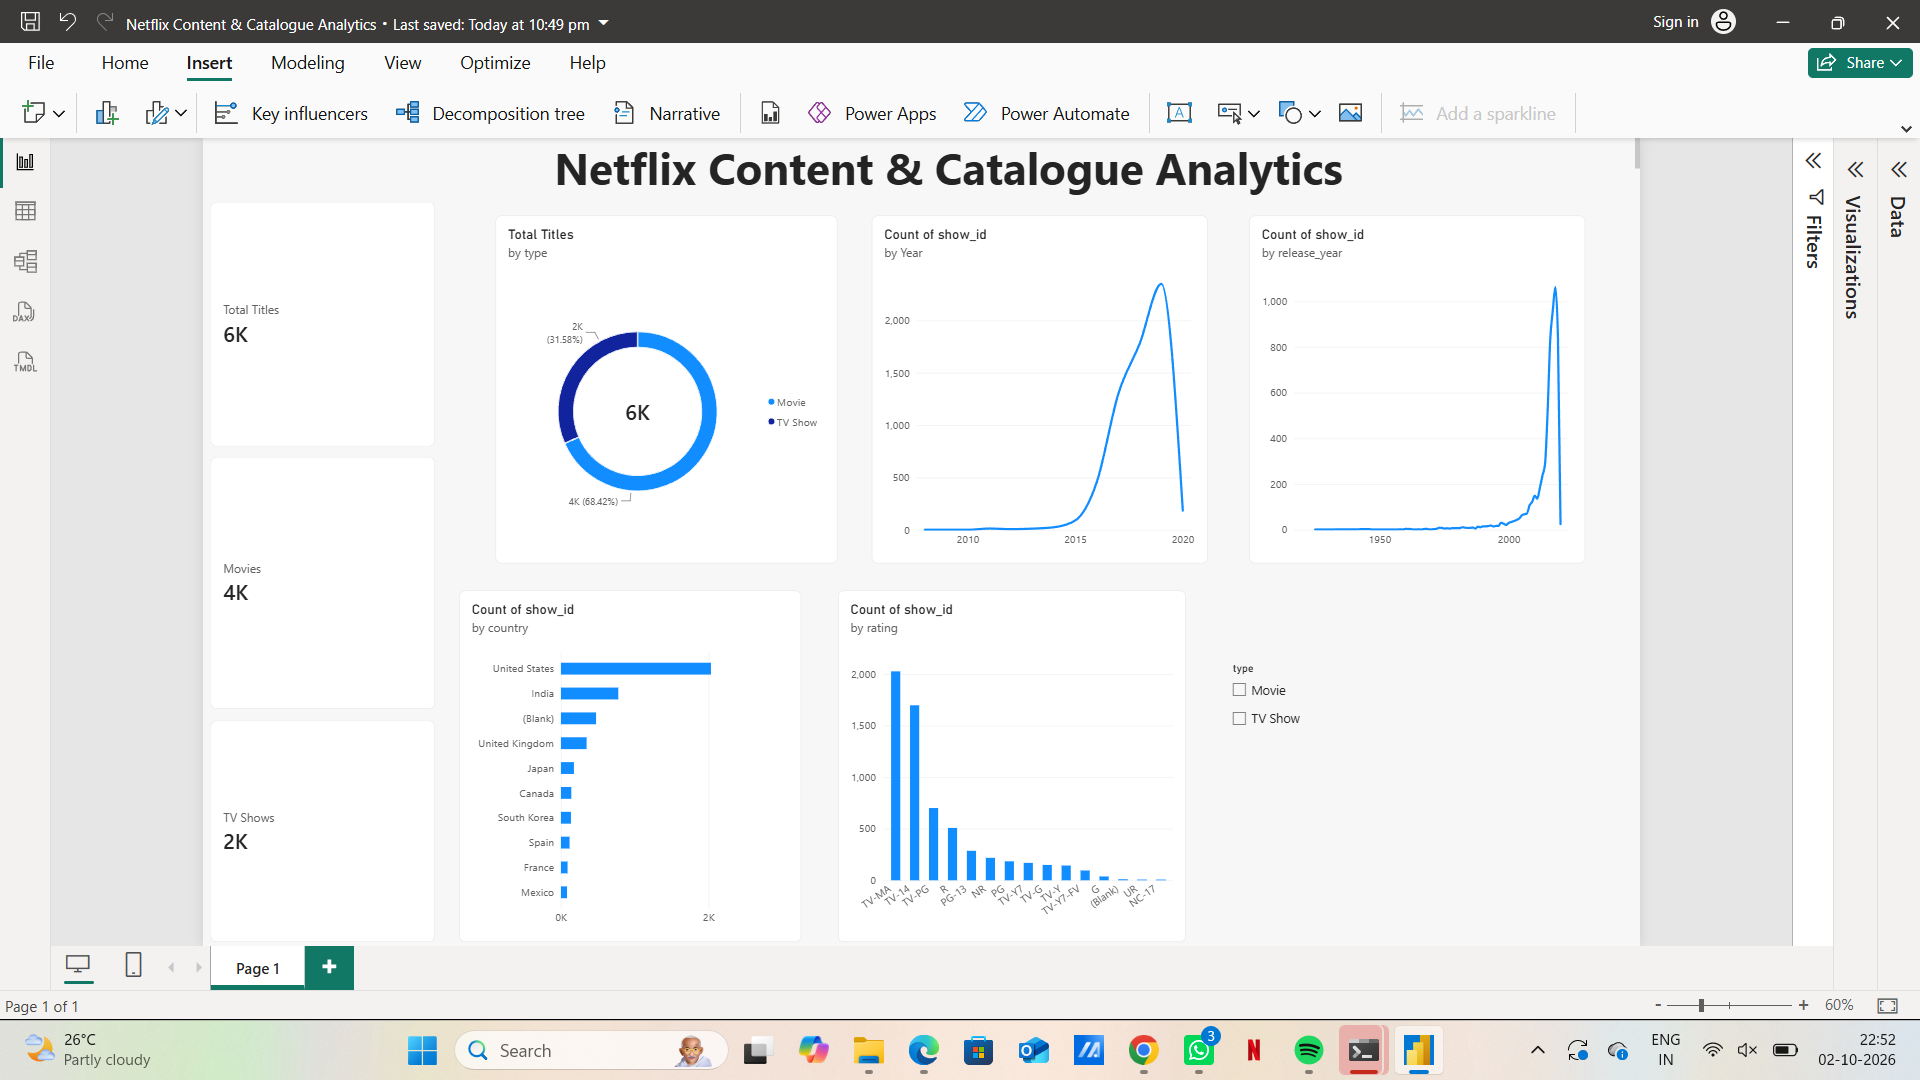

Layout of this report page (visuals, bound fields, positions):
{"tool":"powerbi","page":{"name":"Page 1","canvas":[1920,1080],"ordinal":0},"visuals":[{"type":"cardVisual","fields":{"Data":["netflix_titles.Total Titles"]},"box":[10.3,84.4,300.5,327.3],"z":0},{"type":"cardVisual","fields":{"Data":["netflix_titles.Movies"]},"box":[10.3,426.1,300.5,337.6],"z":1000},{"type":"cardVisual","fields":{"Data":["netflix_titles.TV Shows"]},"box":[10.3,778,300.5,296.4],"z":2000},{"type":"donutChart","fields":{"Category":["netflix_titles.type"],"Y":["netflix_titles.Total Titles"]},"box":[391.1,102.9,456.9,465.2],"z":3000},{"type":"lineChart","fields":{"Category":["netflix_titles.date_added.Variation.Date Hierarchy.Year"],"Y":["CountNonNull(netflix_titles.show_id)"]},"box":[893.3,102.9,448.7,465.2],"z":4000},{"type":"columnChart","fields":{"Category":["netflix_titles.rating"],"Y":["CountNonNull(netflix_titles.show_id)"]},"box":[848,605.1,465.2,469.3],"z":5000},{"type":"clusteredBarChart","fields":{"Category":["netflix_titles.country"],"Y":["CountNonNull(netflix_titles.show_id)"]},"box":[341.7,605.1,456.9,469.3],"z":6000},{"type":"lineChart","fields":{"Category":["netflix_titles.release_year"],"Y":["CountNonNull(netflix_titles.show_id)"]},"box":[1397.6,102.9,449,465],"z":7000},{"type":"slicer","fields":{"Values":["netflix_titles.type"]},"box":[1366.7,699.8,430.2,193.5],"z":7001},{"type":"textbox","box":[78.2,0,1842.2,84.4],"z":7002}]}

Visuals, with their boxes on the page's 1920x1080 design canvas (x1, y1, x2, y2). These are canvas units, not pixel positions in the 1920x1080 screenshot, which may show the page scaled, cropped or inside an application window:
cardVisual - netflix_titles.Total Titles: {"x1": 10, "y1": 84, "x2": 311, "y2": 412}
cardVisual - netflix_titles.Movies: {"x1": 10, "y1": 426, "x2": 311, "y2": 764}
cardVisual - netflix_titles.TV Shows: {"x1": 10, "y1": 778, "x2": 311, "y2": 1074}
donutChart - netflix_titles.type x netflix_titles.Total Titles: {"x1": 391, "y1": 103, "x2": 848, "y2": 568}
lineChart - netflix_titles.date_added.Variation.Date Hierarchy.Year x CountNonNull(netflix_titles.show_id): {"x1": 893, "y1": 103, "x2": 1342, "y2": 568}
columnChart - netflix_titles.rating x CountNonNull(netflix_titles.show_id): {"x1": 848, "y1": 605, "x2": 1313, "y2": 1074}
clusteredBarChart - netflix_titles.country x CountNonNull(netflix_titles.show_id): {"x1": 342, "y1": 605, "x2": 799, "y2": 1074}
lineChart - netflix_titles.release_year x CountNonNull(netflix_titles.show_id): {"x1": 1398, "y1": 103, "x2": 1847, "y2": 568}
slicer - netflix_titles.type: {"x1": 1367, "y1": 700, "x2": 1797, "y2": 893}
textbox: {"x1": 78, "y1": 0, "x2": 1920, "y2": 84}
